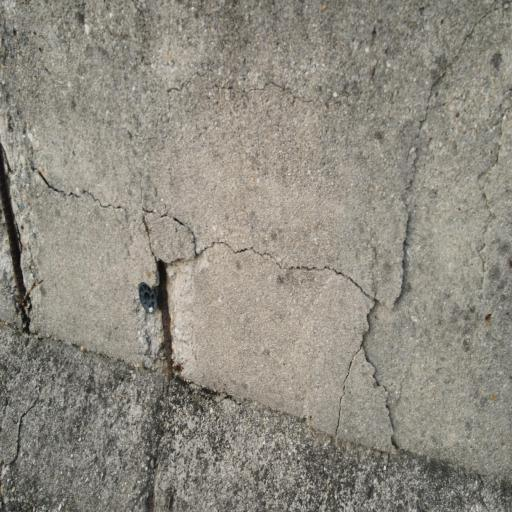exposed_rebar: (0, 144, 26, 302), (158, 260, 173, 377)
